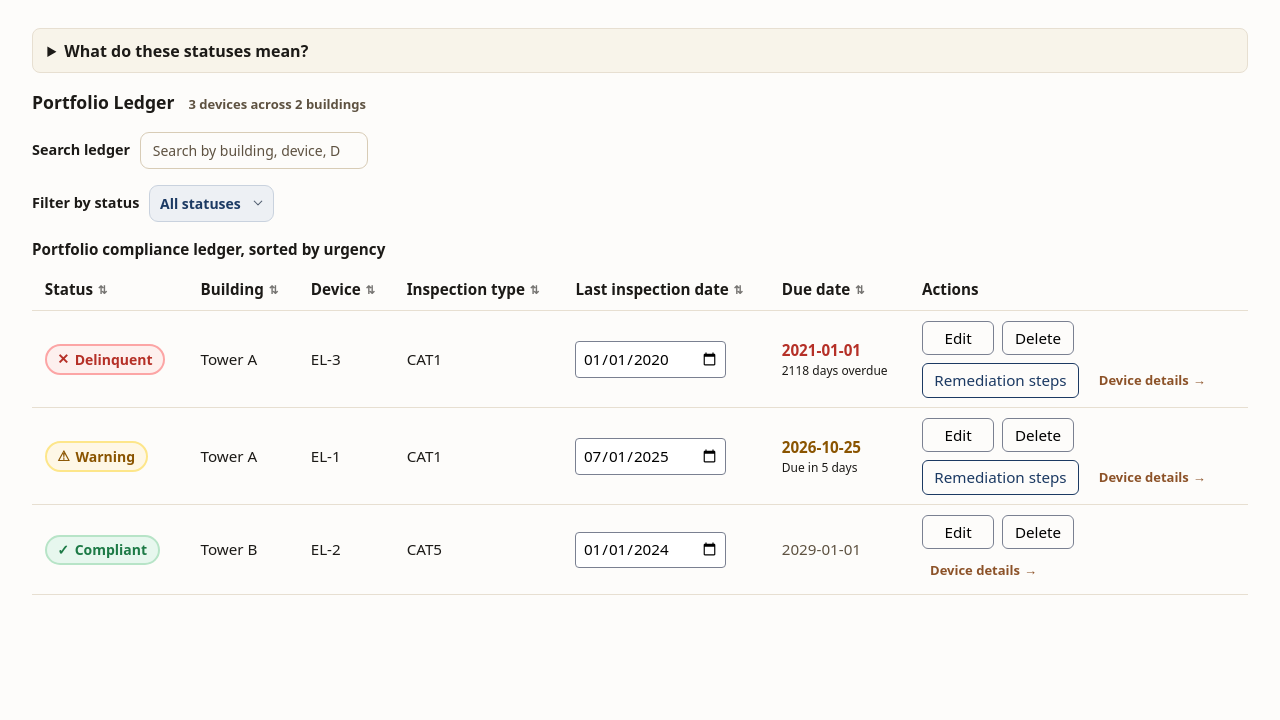
LedgerPage › expands a plain-language remediation panel (what's wrong / next step / where to go) when Remediation steps is clicked, and collapses on a second click
Click the button with aria-label "remediation steps for el-3": (1000, 380) [922, 363, 1079, 398]
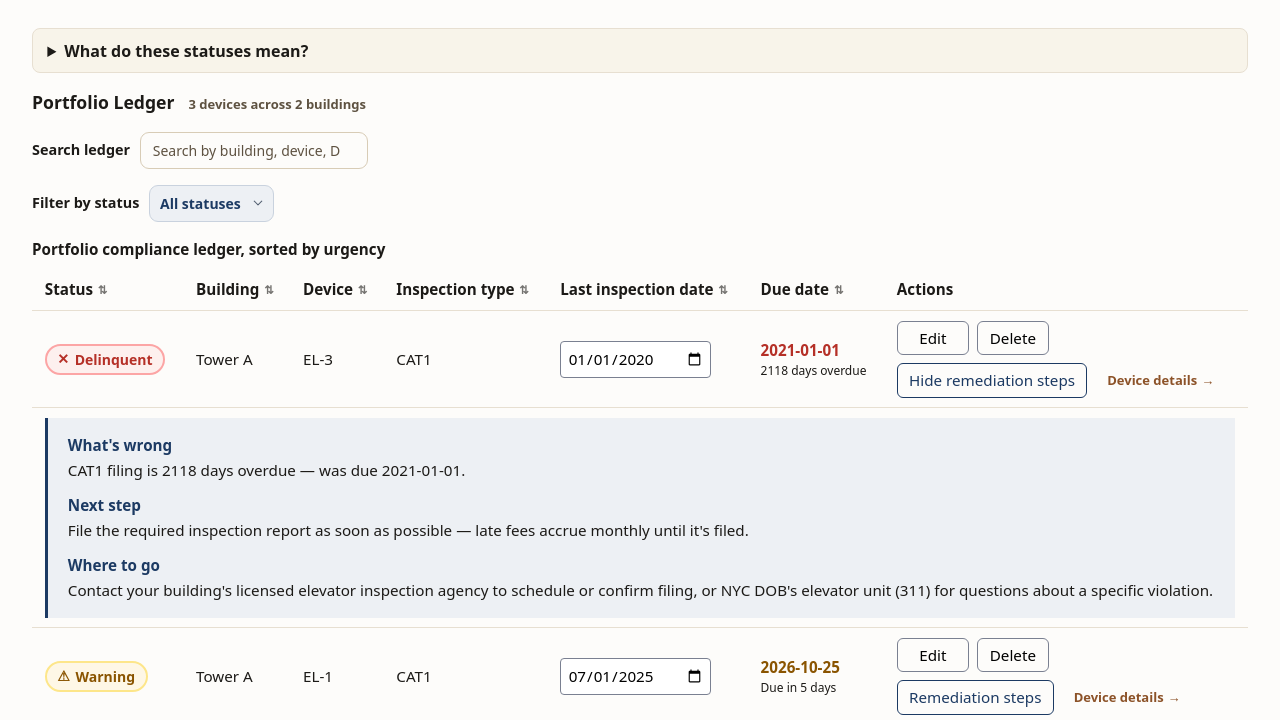
Now the text "What's wrong" is shown, box [68, 435, 172, 455]
Now the text "Next step" is shown, box [68, 495, 141, 515]
Now the text "Where to go" is shown, box [68, 555, 160, 575]
Click the button with aria-label "remediation steps for el-3": (992, 380) [897, 363, 1087, 398]
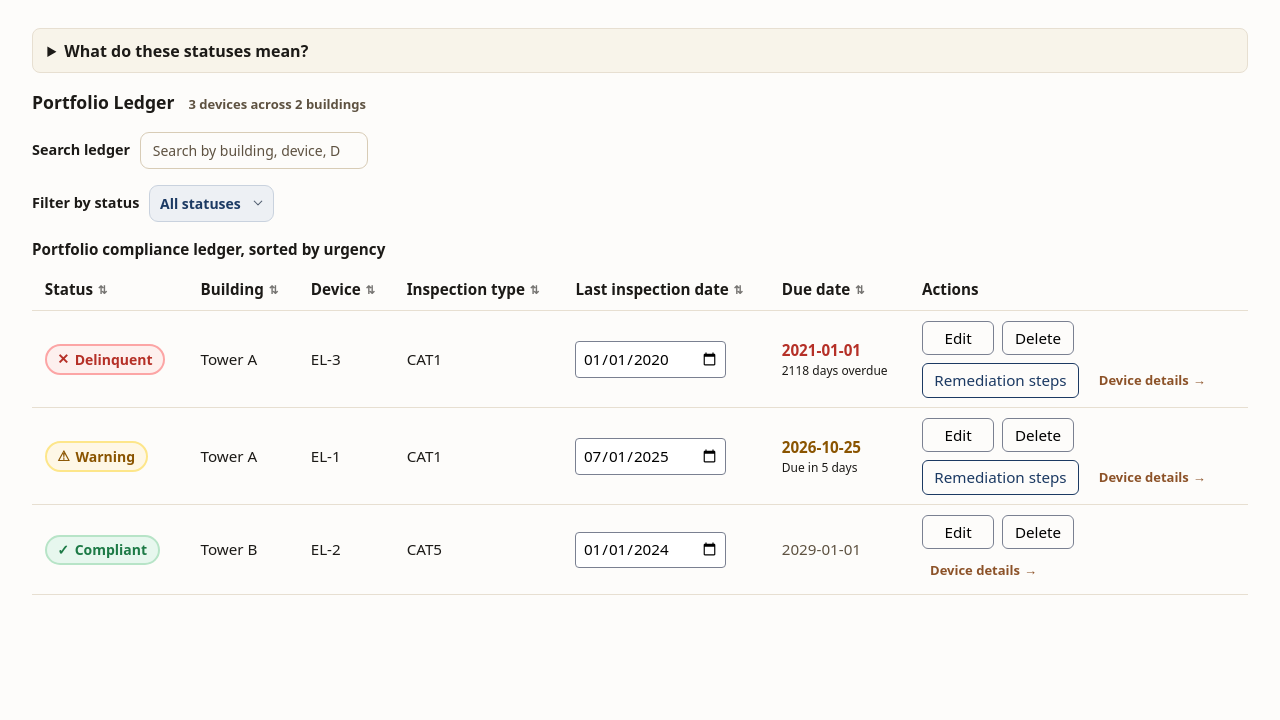
Now the text "What's wrong" is gone
